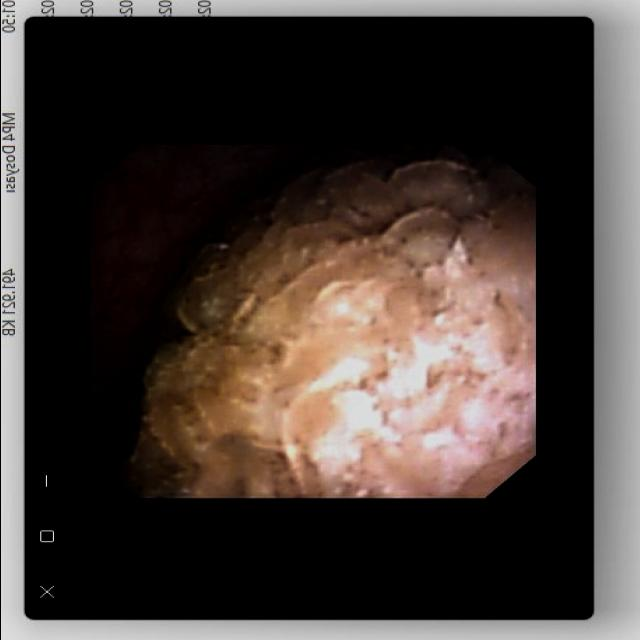stone: (116, 152, 528, 492)
